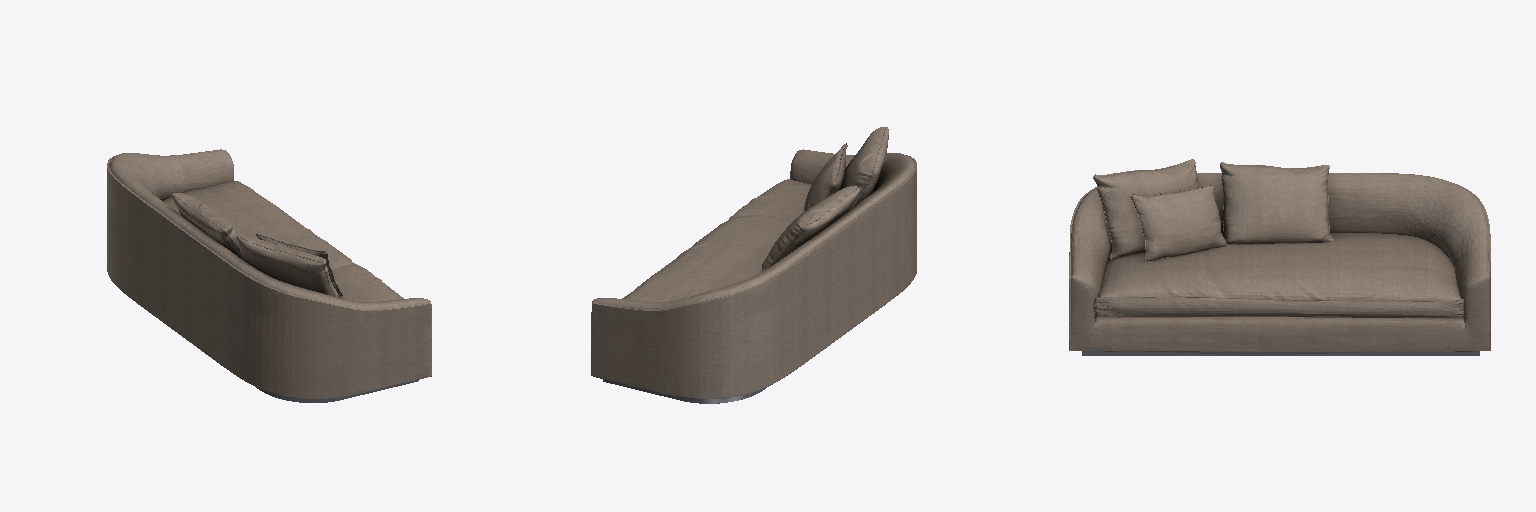
3 views of the same model, side by side, from view 1: azimuth 30°, elevation 25°; view 2: azimuth 150°, elevation 25°; view 3: azimuth 270°, elevation 25° (orthographic).
Visible parts, largest first — view 1: solid_001_wire; view 2: solid_001_wire; view 3: solid_001_wire.
Boxes of the visible parts, <box> form: solid_001_wire: <box>107,149,431,402</box>; solid_001_wire: <box>591,127,916,403</box>; solid_001_wire: <box>1069,159,1490,355</box>.
Bounding box in the file's own units: 0.9599 × 0.8255 × 2.3.
Materials: 1 (1 with a texture image).